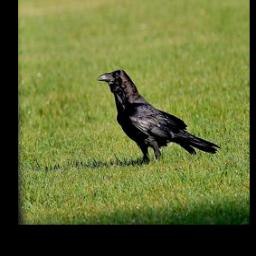Crow: (94, 67, 221, 166)
